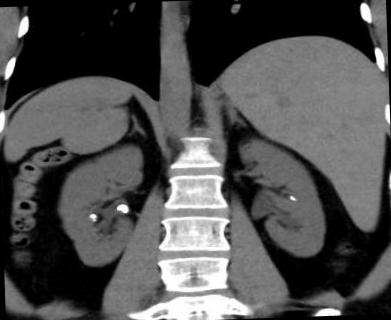Tas_Var: (115, 202, 129, 215), (289, 194, 297, 202), (88, 211, 96, 219), (90, 218, 96, 222)
